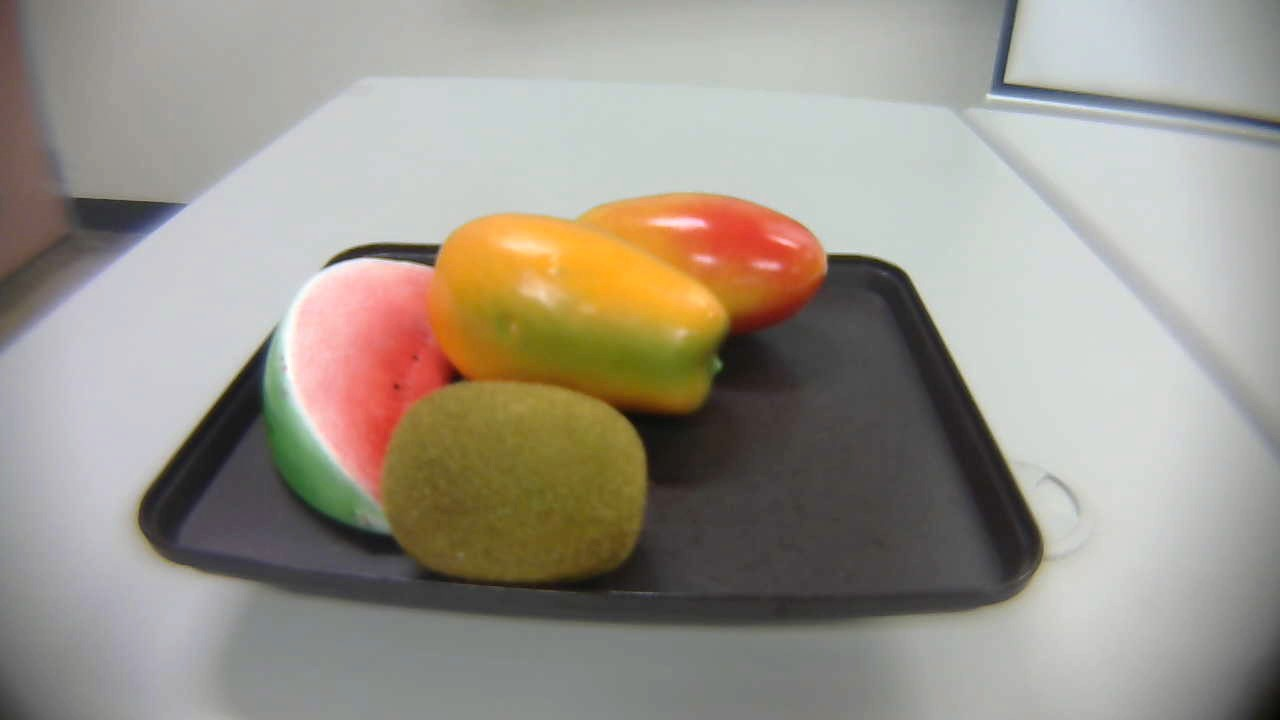kiwi fruit: (389, 384, 651, 580)
papya: (425, 208, 723, 422)
red mango: (570, 185, 841, 343)
water melon: (260, 253, 464, 547)
